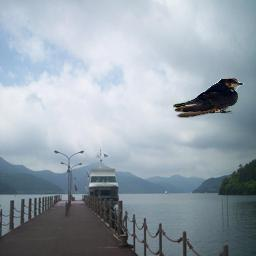Swallow: (173, 78, 244, 118)
